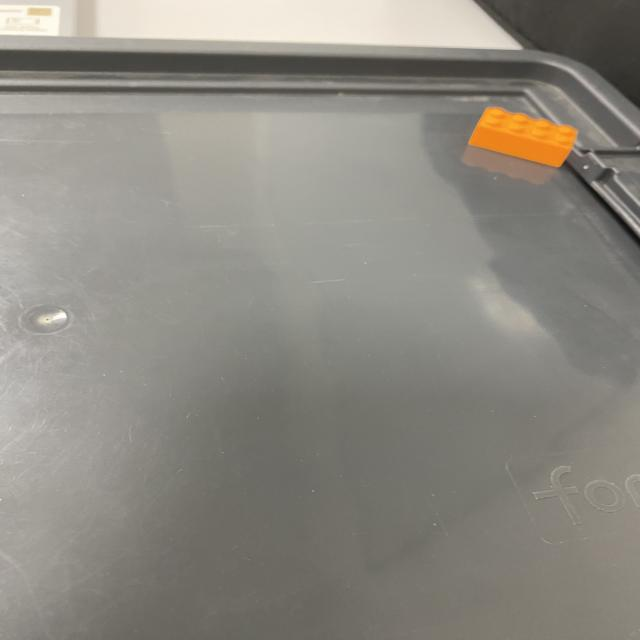C4x2x1: (467, 105, 579, 168)
